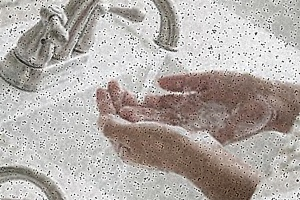washing hand: (24, 0, 287, 199)
